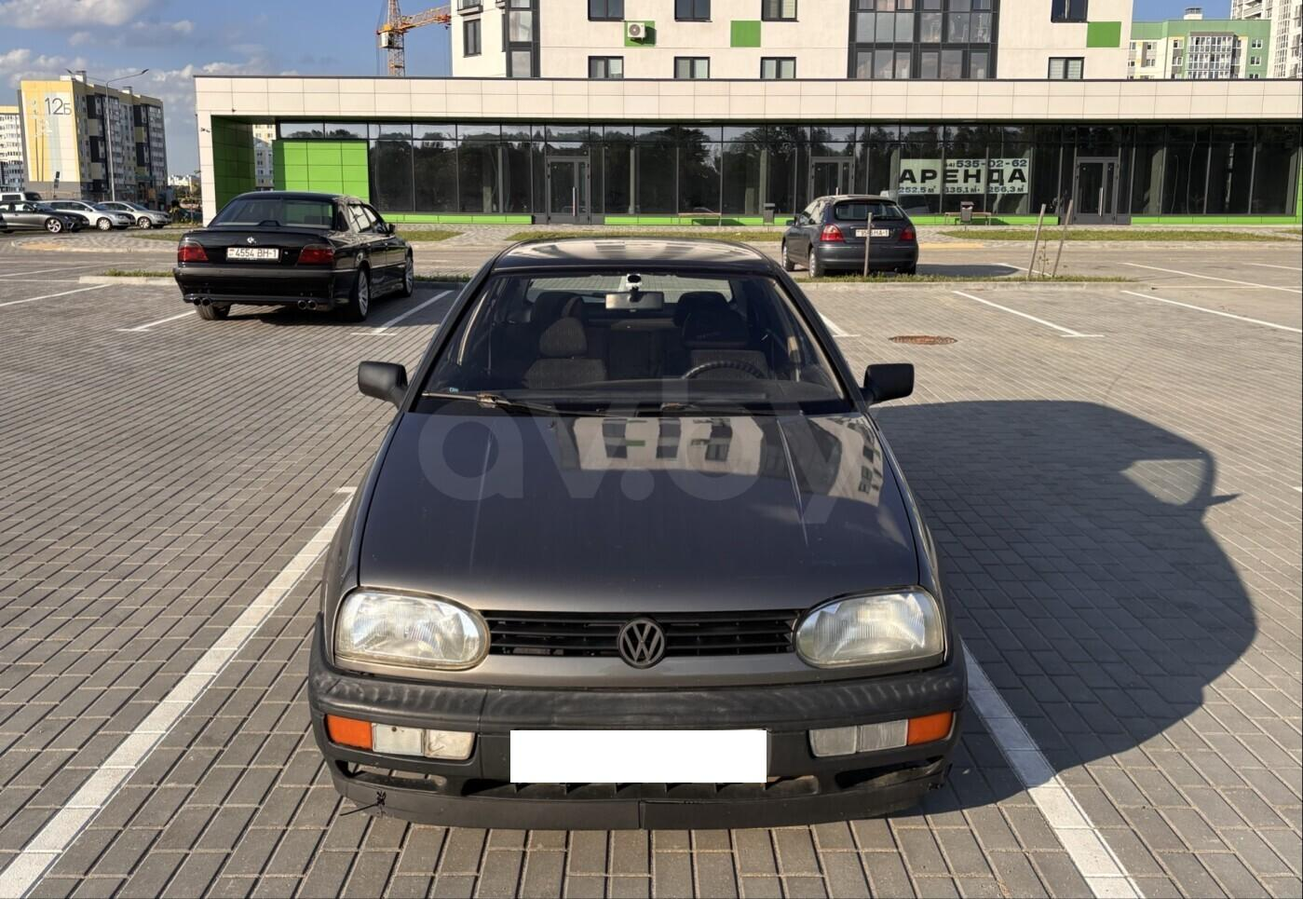Golf_1991-2000: (310, 227, 980, 808)
